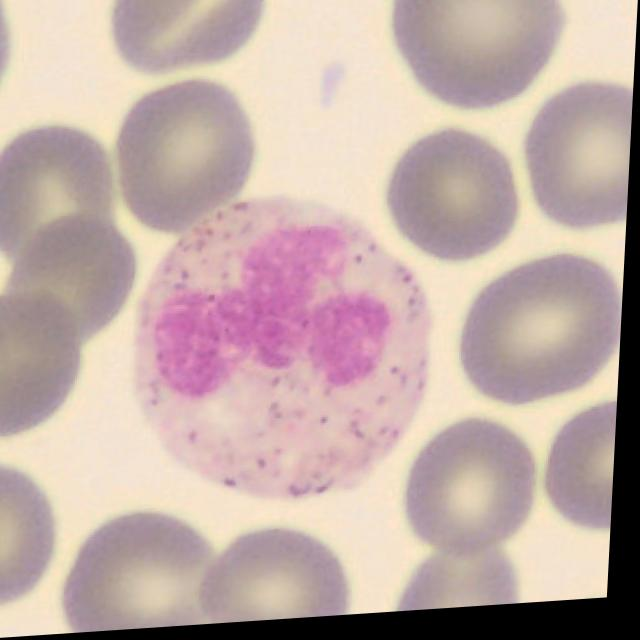Neutrofilo segmentado: (138, 196, 440, 506)
